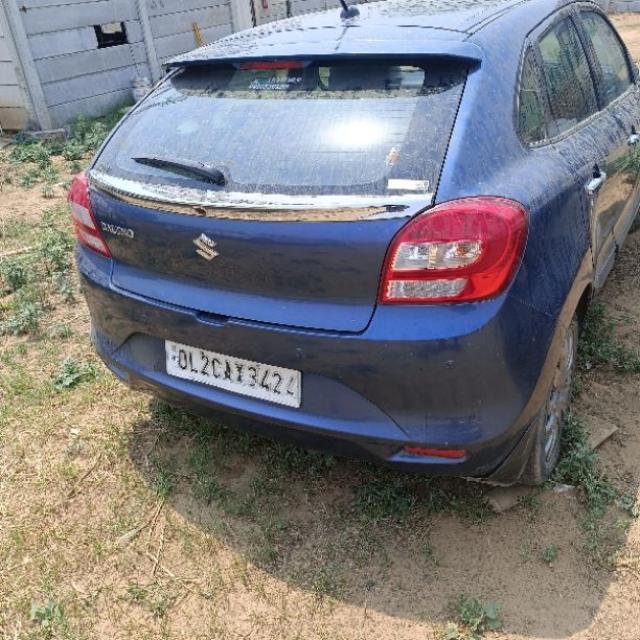license_plate: (163, 339, 302, 409)
